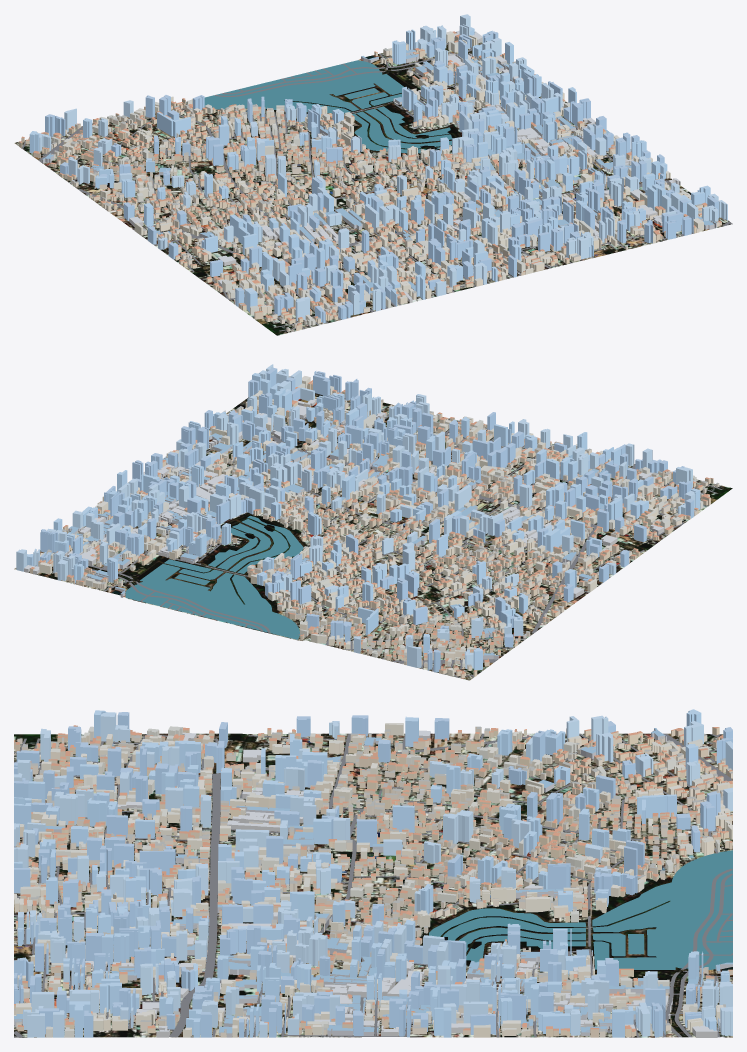
3 renders of one model, top to bottom at view 1: azimuth 30°, elevation 25°; view 2: azimuth 150°, elevation 25°; view 3: azimuth 270°, elevation 25°, orthographic. The views are drawn at different scales.
Visible parts, largest first — view 1: BLDG_MODERN_TOWER, BLDG_TUBE_SHOPHOUSE, TERRAIN, BLDG_APARTMENT, WATER, BLDG_INDUSTRIAL_PORT, ROAD_METRO; view 2: BLDG_MODERN_TOWER, BLDG_TUBE_SHOPHOUSE, TERRAIN, BLDG_APARTMENT, WATER, BLDG_INDUSTRIAL_PORT, ROAD_METRO; view 3: BLDG_MODERN_TOWER, BLDG_TUBE_SHOPHOUSE, TERRAIN, BLDG_APARTMENT, WATER, BLDG_INDUSTRIAL_PORT, ROAD_METRO.
Boxes of the visible parts, x1,y1,x2,y2 form: BLDG_MODERN_TOWER: [29, 14, 727, 323]; BLDG_TUBE_SHOPHOUSE: [19, 31, 721, 331]; TERRAIN: [14, 40, 732, 335]; BLDG_APARTMENT: [37, 31, 703, 325]; WATER: [186, 60, 452, 153]; BLDG_INDUSTRIAL_PORT: [42, 30, 716, 309]; ROAD_METRO: [18, 43, 731, 331]; BLDG_MODERN_TOWER: [16, 364, 700, 672]; BLDG_TUBE_SHOPHOUSE: [30, 376, 719, 678]; TERRAIN: [14, 393, 732, 680]; BLDG_APARTMENT: [39, 376, 703, 676]; WATER: [125, 515, 303, 639]; BLDG_INDUSTRIAL_PORT: [24, 398, 664, 659]; ROAD_METRO: [35, 404, 722, 677]; BLDG_MODERN_TOWER: [14, 709, 732, 1037]; BLDG_TUBE_SHOPHOUSE: [14, 725, 732, 1037]; TERRAIN: [14, 733, 732, 1037]; BLDG_APARTMENT: [14, 723, 732, 1037]; WATER: [429, 850, 732, 969]; BLDG_INDUSTRIAL_PORT: [14, 728, 732, 1037]; ROAD_METRO: [14, 733, 732, 1037].
Bounding box in the file's own units: 2000 × 94.65 × 2000.
Materials: 7 (1 with a texture image).
